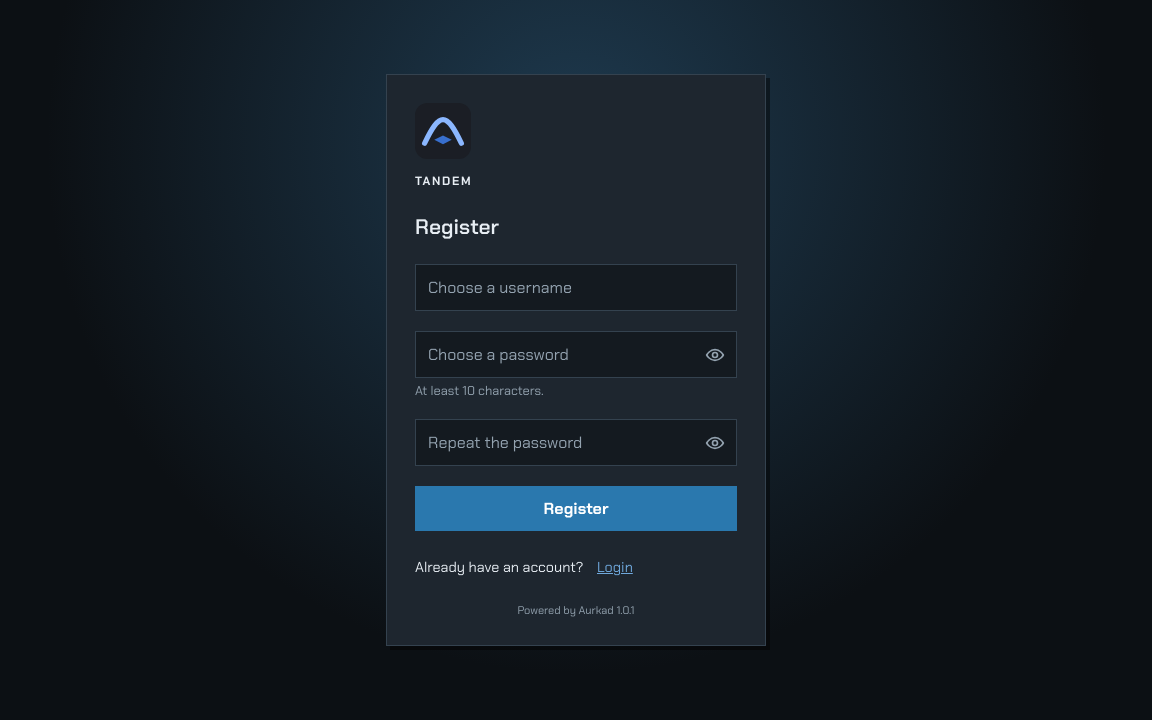
Test: Register › holds a name to the game's rules before sending it
The image size is (1152, 720).
expect the text "Tandem" is shown: met, box [415,173,472,189]
Step 1. Type "Al" into the field with placeholder "Choose a username" → (576, 288), box [415,264,737,311]
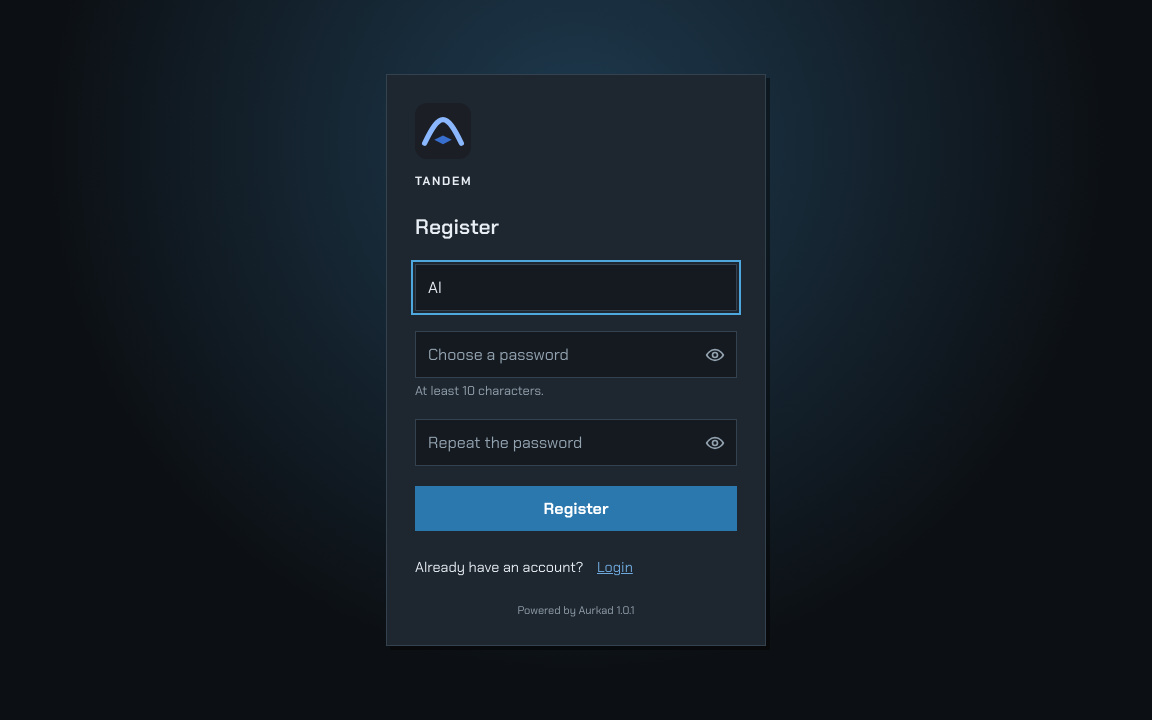
Step 2. Type "longenough1" into the password field with placeholder "Choose a password" → (576, 354), box [415,331,737,378]
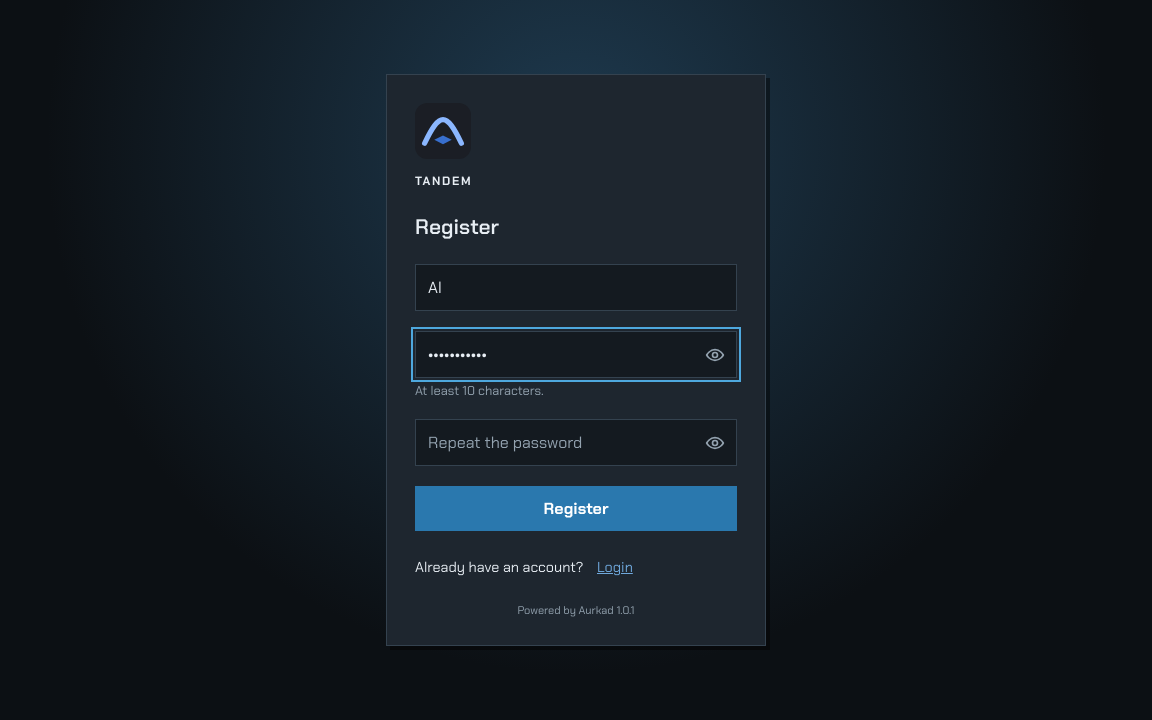
Step 3. Type "longenough1" into the password field with placeholder "Repeat the password" → (576, 442), box [415,419,737,466]
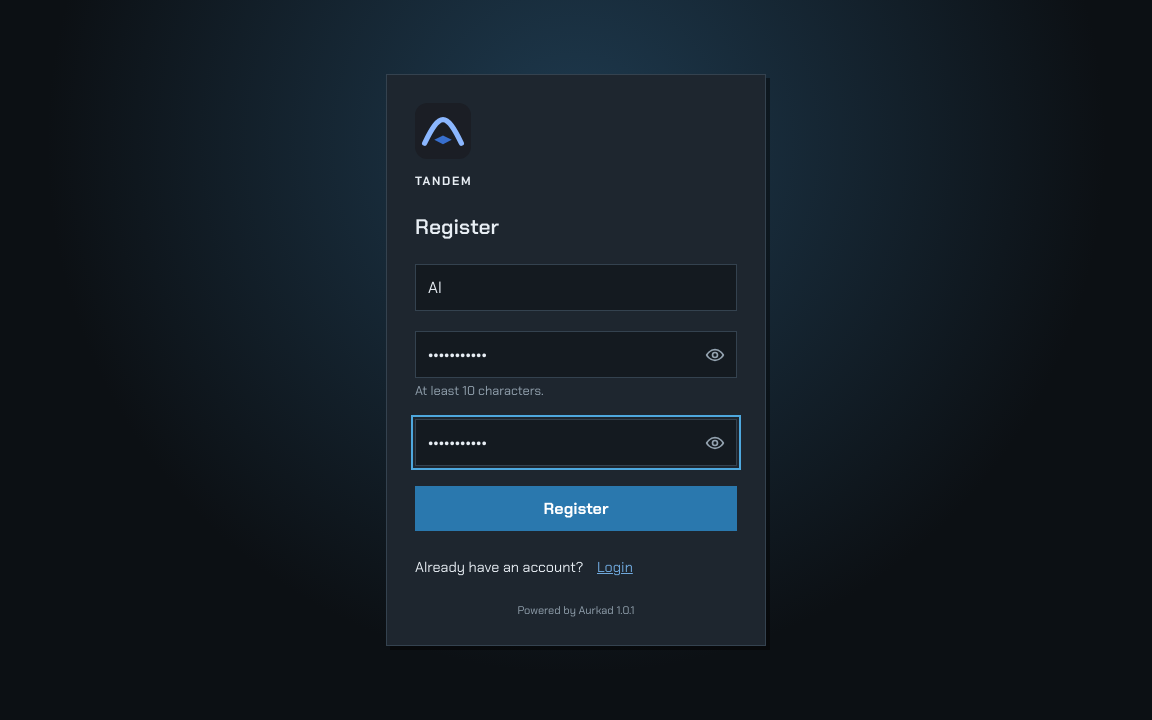
Step 4. Click the button "Register" → (576, 508), box [415,486,737,531]
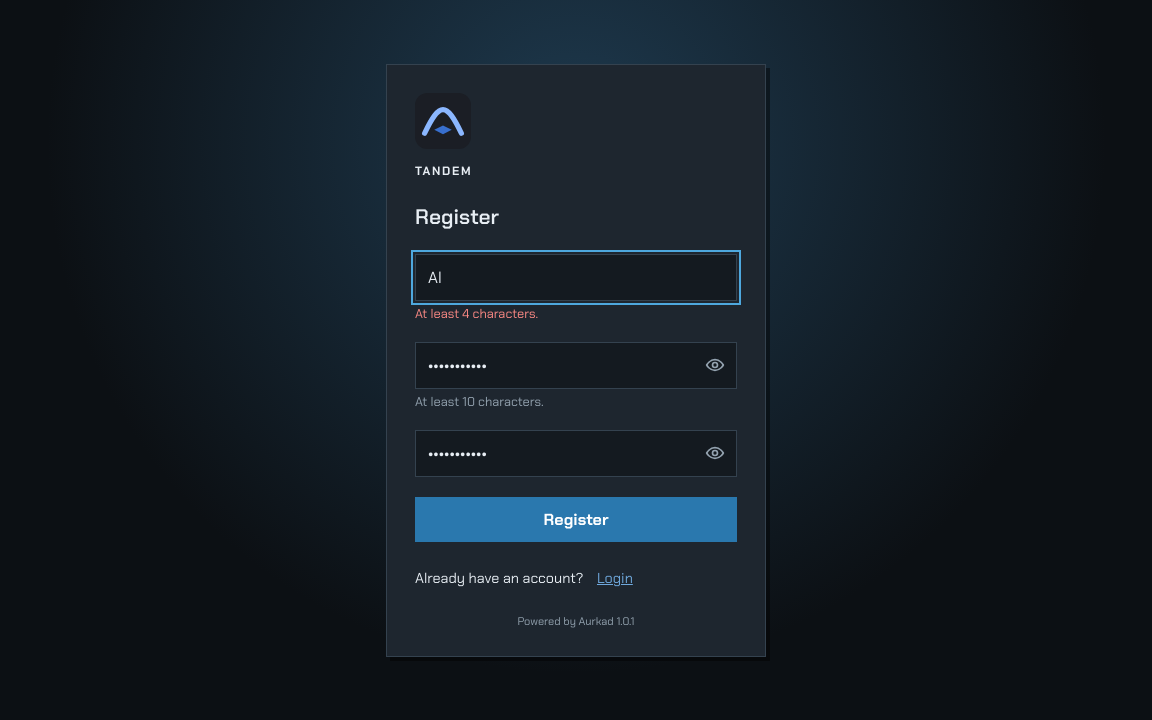
expect the text "At least 4 characters." is shown: met, box [415,304,538,322]
Step 5. Replace the text in the field with placeholder "Choose a username" with "Alice" → (576, 277), box [415,254,737,300]
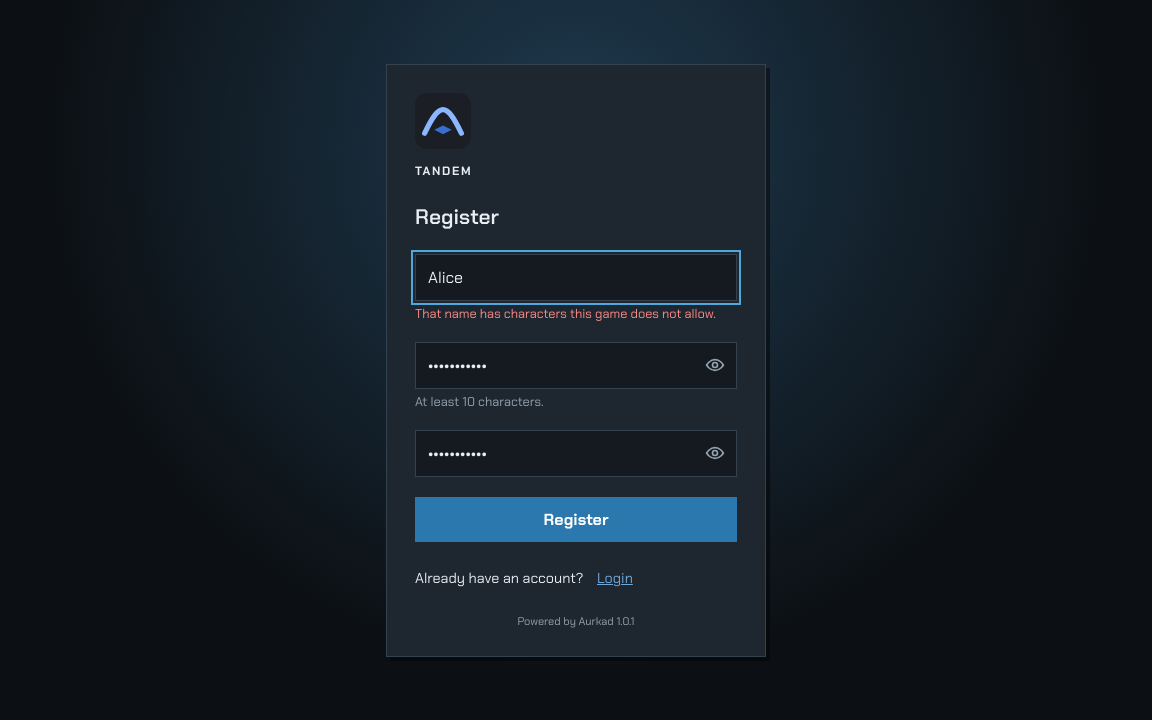
expect the text "That name has characters this game does not allow." is shown: met, box [415,304,737,322]
